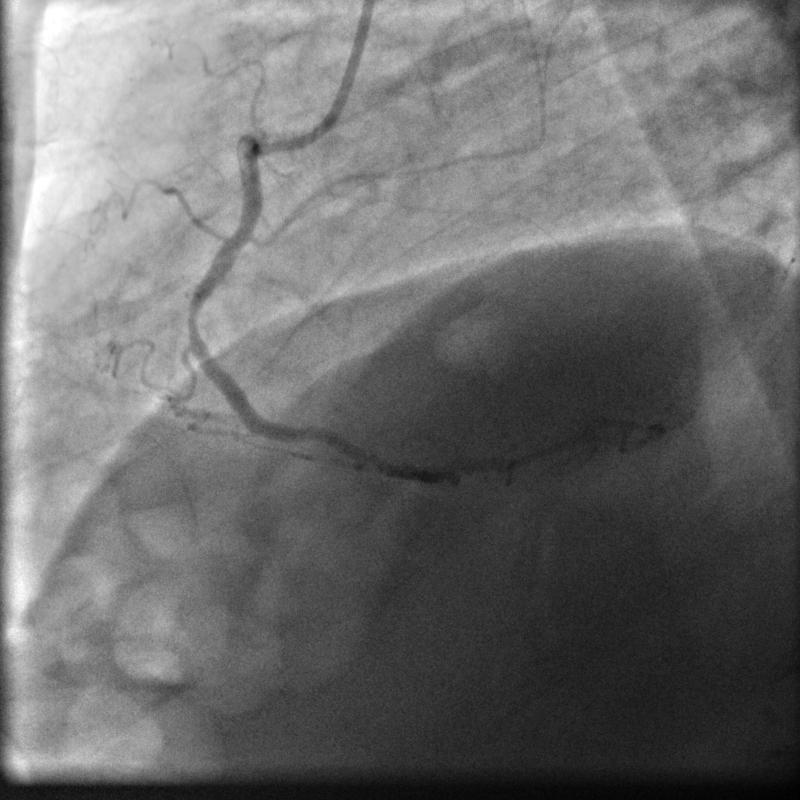Stenosis: (183, 299, 204, 334)
